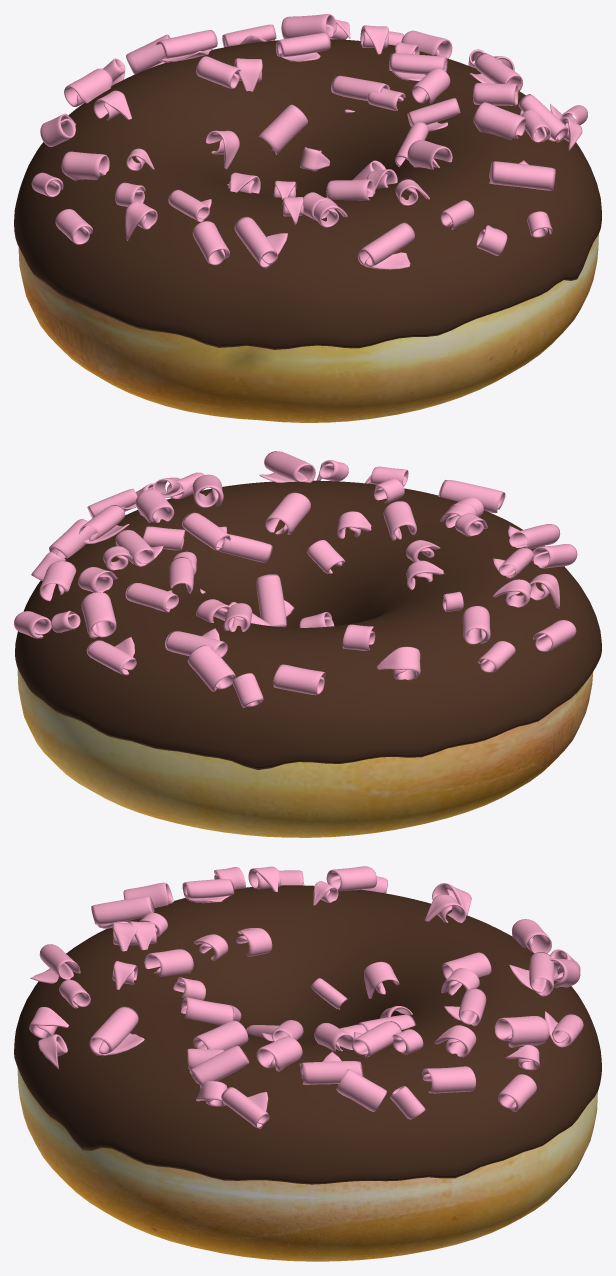
The model's file is dark strawberry curls.glb.
3 renders of one model, top to bottom at view 1: azimuth 30°, elevation 25°; view 2: azimuth 150°, elevation 25°; view 3: azimuth 270°, elevation 25°, orthographic. The views are drawn at different scales.
Parts seen in each view (by area): view 1: dark, choco & straw curls, Torus; view 2: dark, choco & straw curls, Torus; view 3: dark, choco & straw curls, Torus.
Part boxes in pixels (bbox=[...]): dark: bbox=[14, 39, 601, 349]; choco & straw curls: bbox=[31, 14, 587, 269]; Torus: bbox=[18, 234, 598, 422]; dark: bbox=[15, 480, 601, 769]; choco & straw curls: bbox=[14, 451, 577, 707]; Torus: bbox=[17, 668, 592, 837]; dark: bbox=[14, 885, 601, 1184]; choco & straw curls: bbox=[29, 866, 583, 1128]; Torus: bbox=[17, 1067, 597, 1261].
Bounding box in the file's own units: 0.1988 × 0.0804 × 0.1971.
3 materials, 1 textured.
